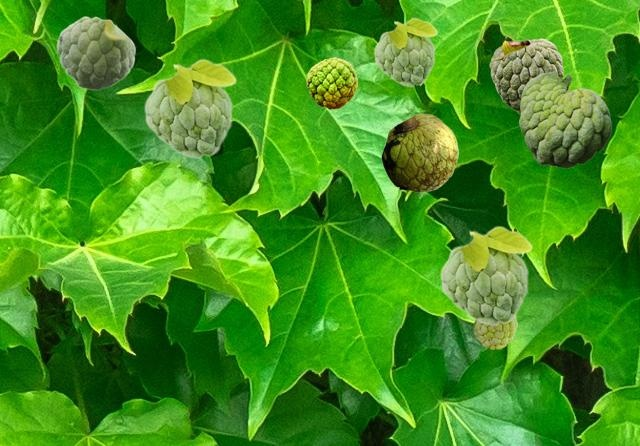atis: (143, 58, 236, 158), (439, 225, 532, 325), (519, 71, 610, 167), (381, 113, 457, 191), (56, 16, 135, 89), (489, 38, 562, 114), (373, 17, 437, 86), (306, 57, 356, 108), (473, 318, 516, 348)
